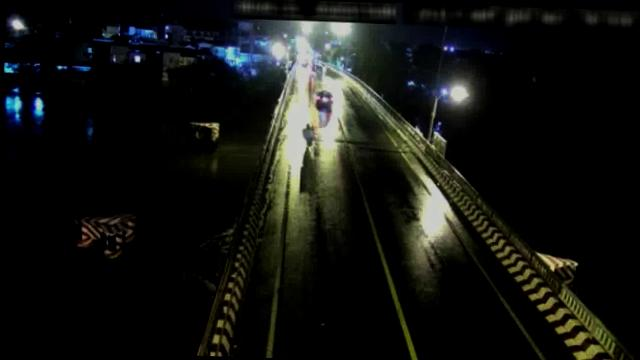Bike: (300, 122, 317, 148)
